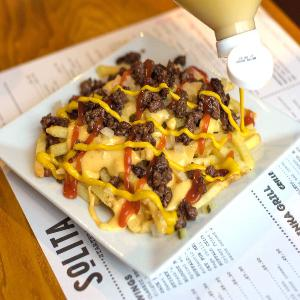fries: (33, 47, 262, 241)
